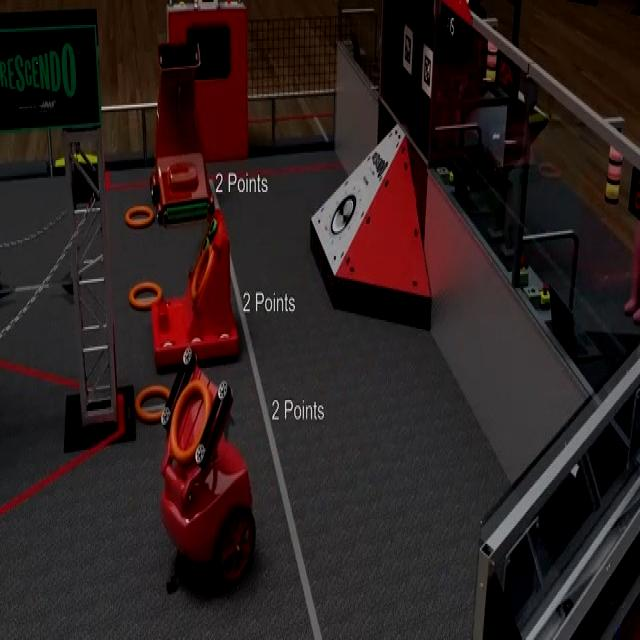notes: (134, 383, 169, 424), (130, 280, 162, 310), (124, 204, 156, 228)
